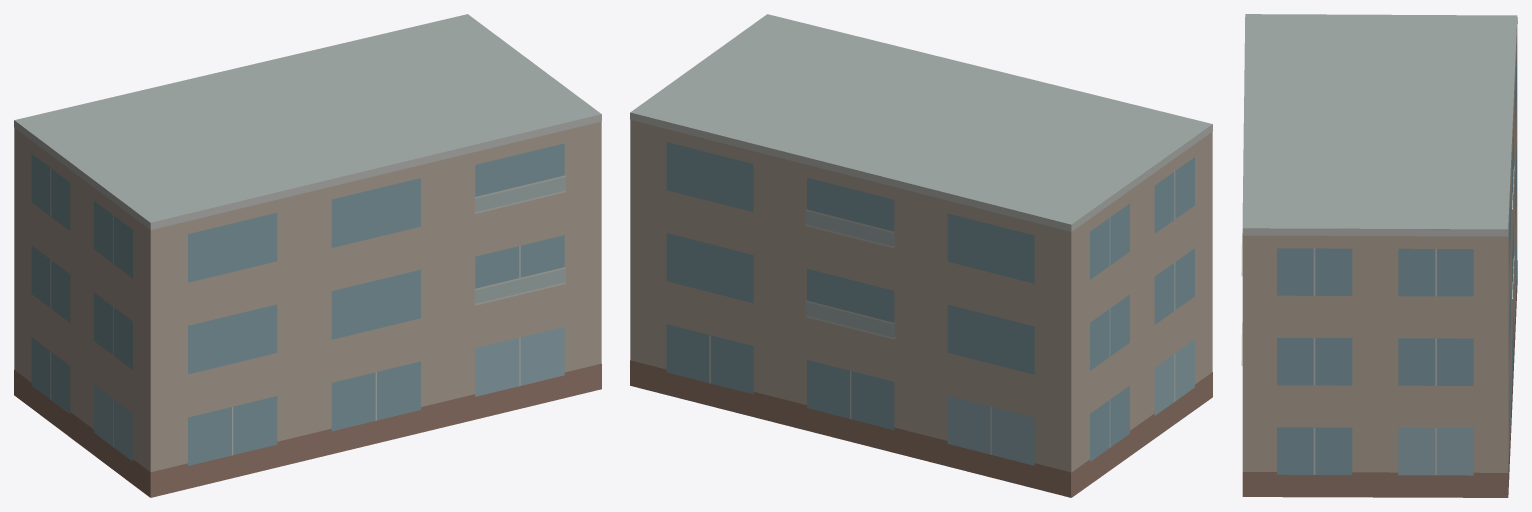
Rendered from survey-upis-32875519.glb.
3 views of the same model, side by side, from view 1: azimuth 30°, elevation 25°; view 2: azimuth 150°, elevation 25°; view 3: azimuth 270°, elevation 25° (orthographic). The views are drawn at different scales.
Parts seen in each view (by area): view 1: survey-upis-32875519.tmp; view 2: survey-upis-32875519.tmp; view 3: survey-upis-32875519.tmp.
Part boxes in pixels (box(x1,y1,x2,y2)): survey-upis-32875519.tmp: box(14, 14, 601, 497); survey-upis-32875519.tmp: box(630, 14, 1212, 497); survey-upis-32875519.tmp: box(1241, 14, 1517, 497).
Bounding box in the file's own units: 15.74 × 9.15 × 8.53.
